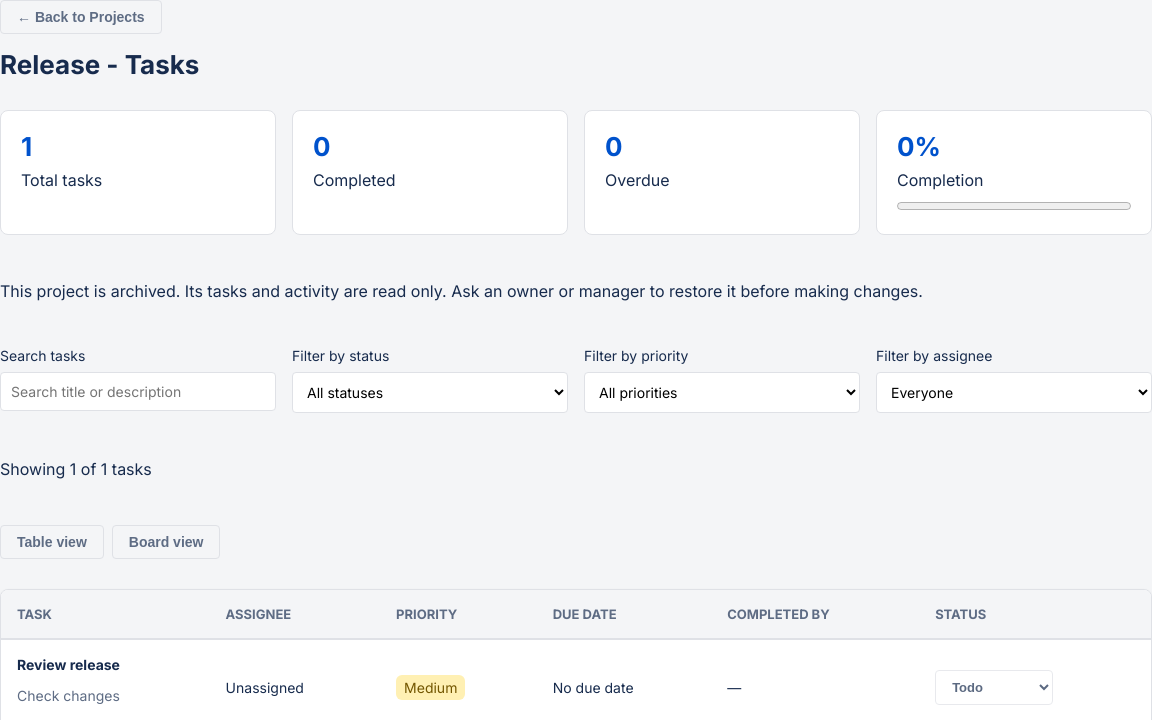
Test case: task permissions in the interface › keeps archived projects read only in both table and board views, even for owners
Expected: the text "This project is archived" is shown, [0,281,923,301]
Expected: the dropdown named "Status for Review release" is disabled, [935,670,1053,704]
What coordinates should you click on to do the following:
click the button "Board view"
I would click on:
 (166, 542)
Its box is [112,525,220,559].
(page scrolled)
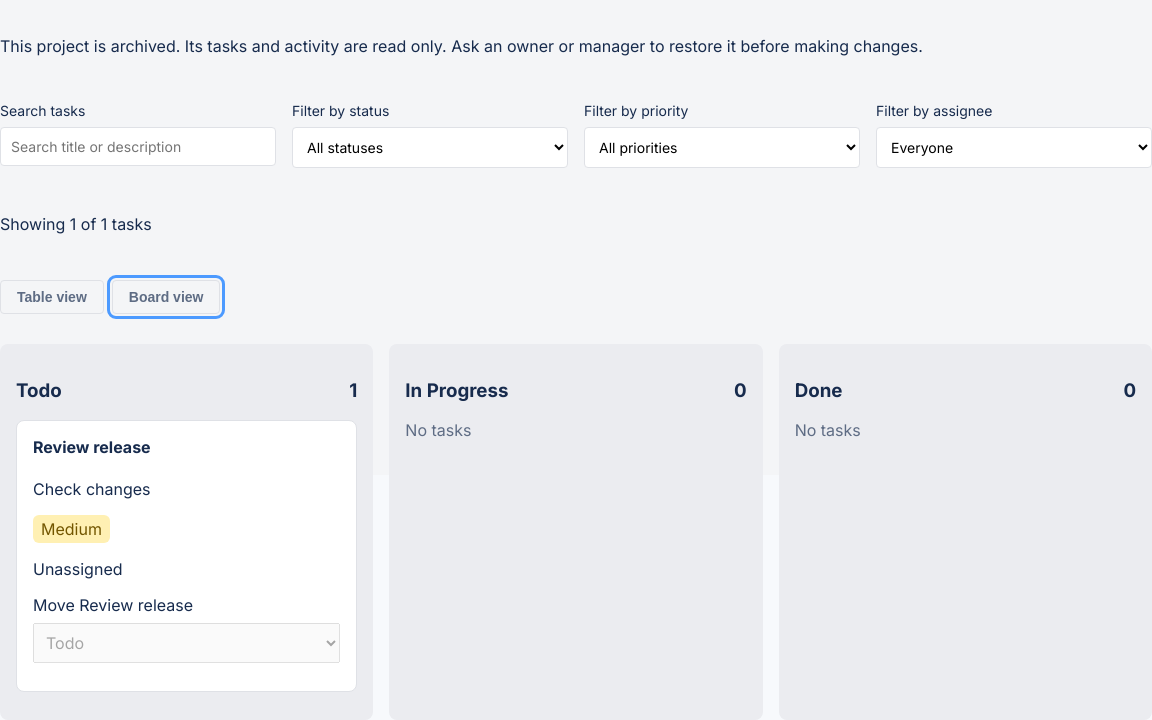
Result: the dropdown labelled "Move Review release" is disabled at [33,623,340,663]
